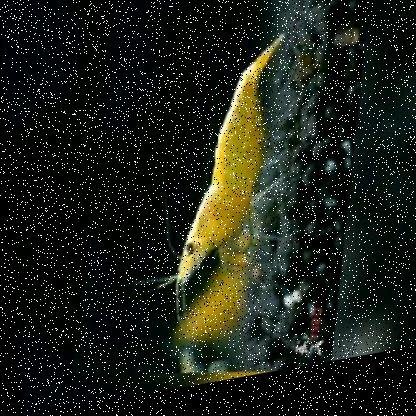shrimp: (160, 39, 303, 294)
